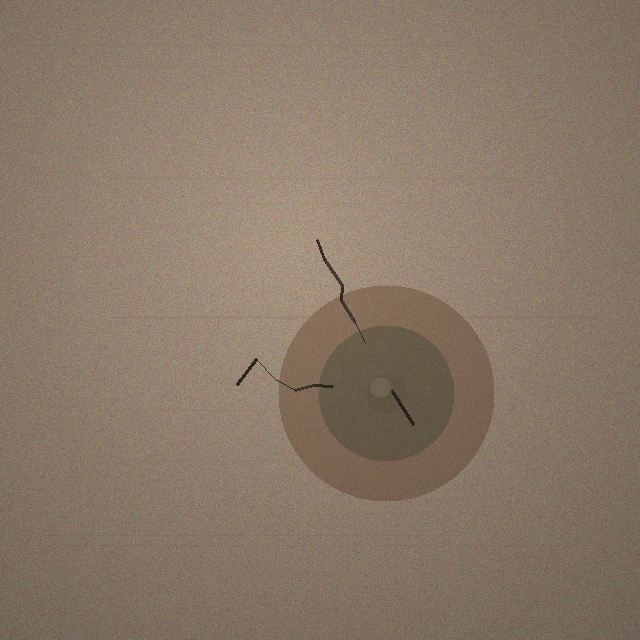crack: (278, 285, 494, 501)
